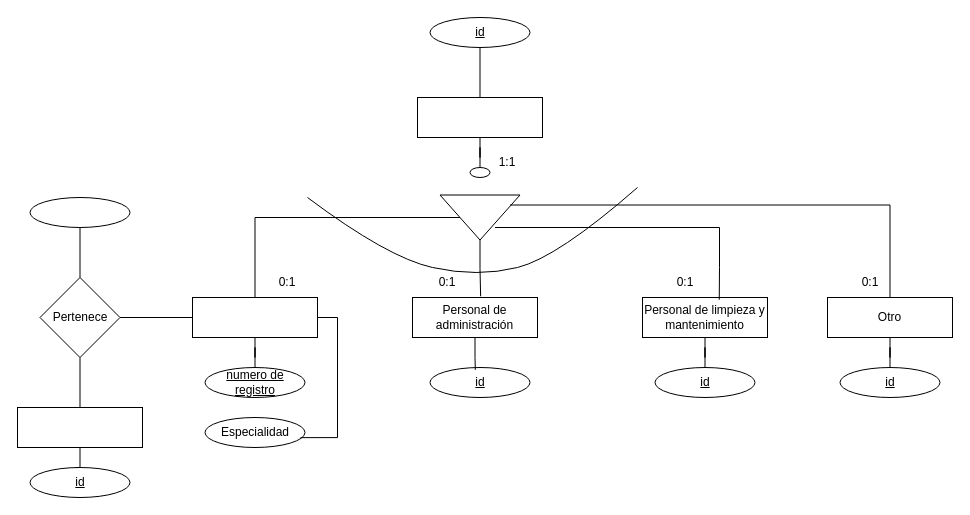
The diagram is 970 pixels wide and 515 high, and some of its shapes have lost their labels. The shapes that lost their labels are listed below. From the top down, each one's centre as x and y in pixels, then its label:
[479,117]: Empleado
[79,212]: Fecha
[479,217]: es
[255,317]: Profesor
[79,427]: Cuerpo
